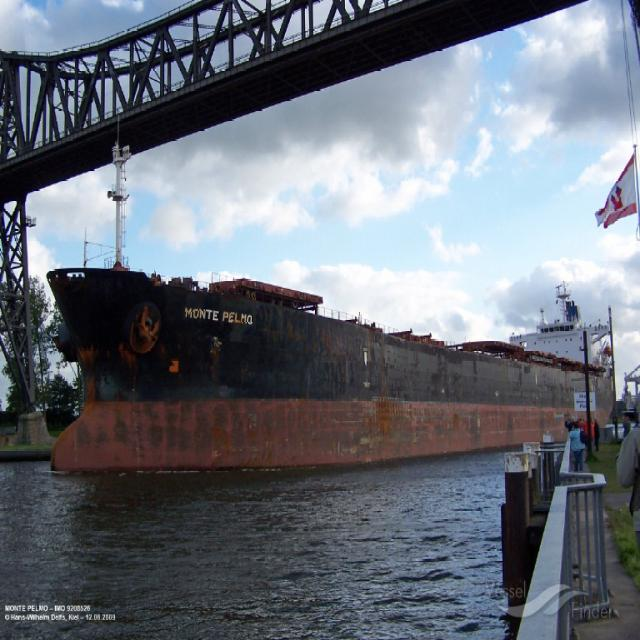OCR: (178, 293, 256, 333)
